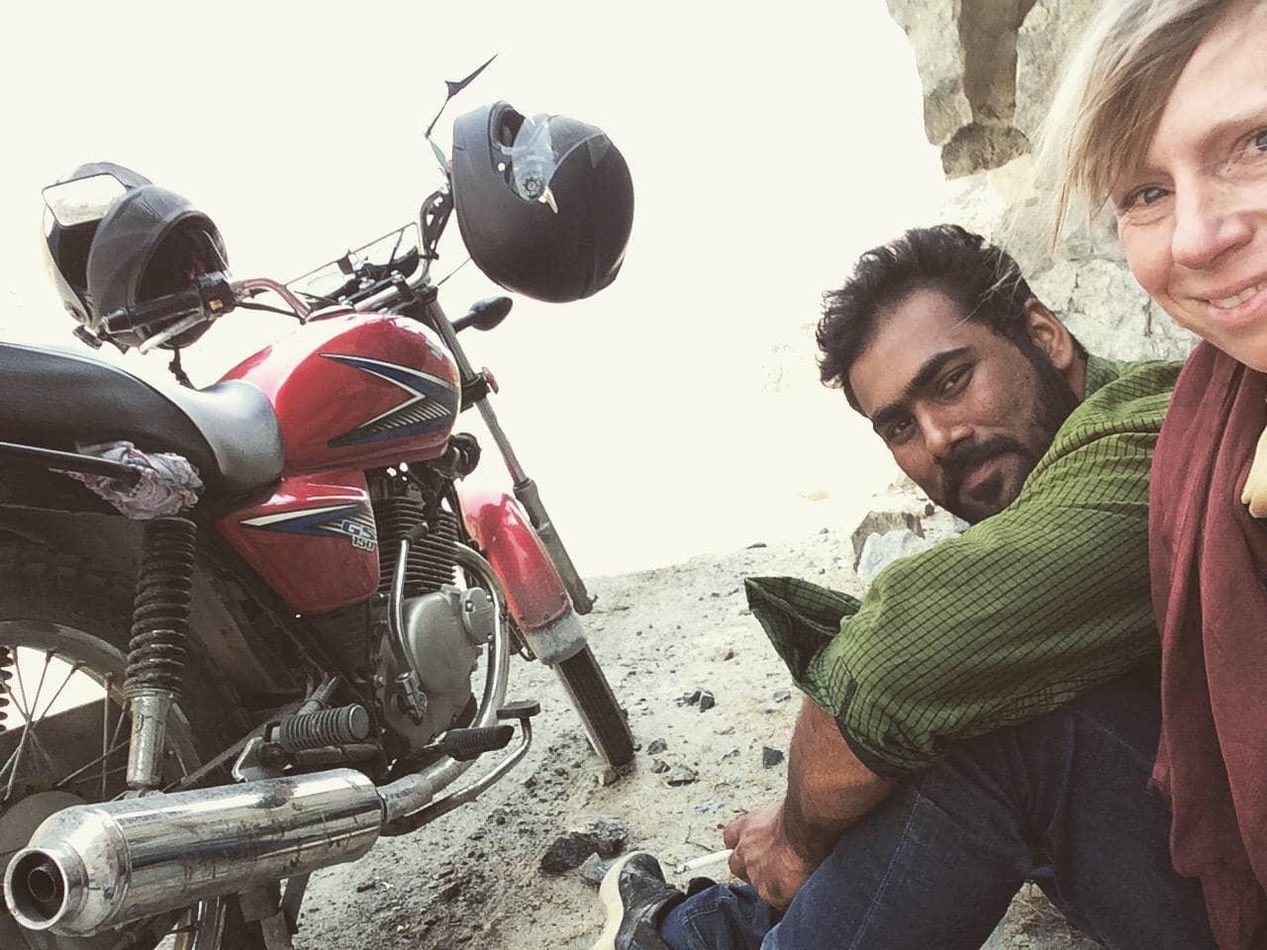motorcycle: (0, 24, 642, 946)
